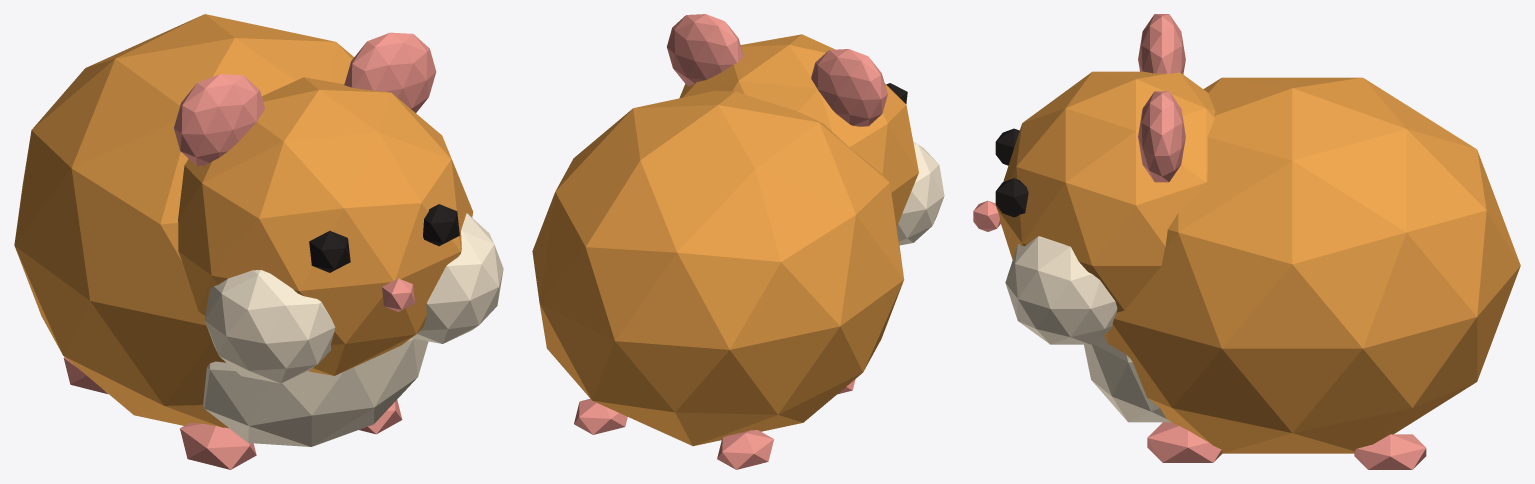
File: Hamster.fbx
The picture shows the model from 3 angles, left to right: view 1: azimuth 30°, elevation 25°; view 2: azimuth 150°, elevation 25°; view 3: azimuth 270°, elevation 25°; orthographic projection. The views are drawn at different scales.
Visible parts, largest first — view 1: Body, Belly, Pink, Eyes; view 2: Body, Pink, Belly; view 3: Body, Belly, Pink, Eyes.
Part boxes in pixels (left/top/right/bottom): Body: left=14, top=14, right=473, bottom=428; Belly: left=203, top=213, right=503, bottom=446; Pink: left=63, top=32, right=436, bottom=469; Eyes: left=309, top=204, right=459, bottom=272; Body: left=532, top=34, right=918, bottom=446; Pink: left=574, top=14, right=887, bottom=469; Belly: left=897, top=142, right=944, bottom=245; Body: left=995, top=71, right=1520, bottom=453; Belly: left=1005, top=236, right=1171, bottom=422; Pink: left=973, top=14, right=1426, bottom=469; Eyes: left=995, top=128, right=1028, bottom=217.
Bounding box in the file's own units: 1.81 × 1.97 × 2.52.
